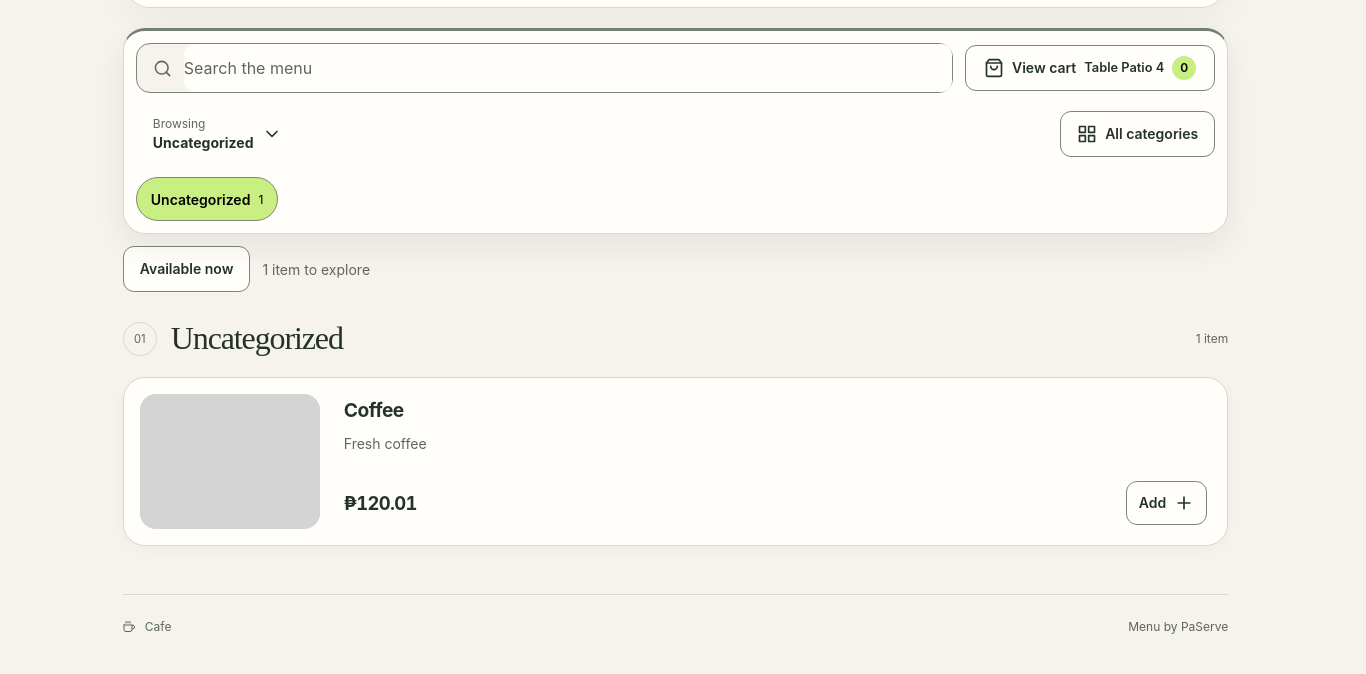
Scenario: keeps the current table and shop visible while choosing product options
The image size is (1366, 674).
(page scrolled)
Click the button "Add" at (1166, 503), box [1126, 481, 1207, 525]
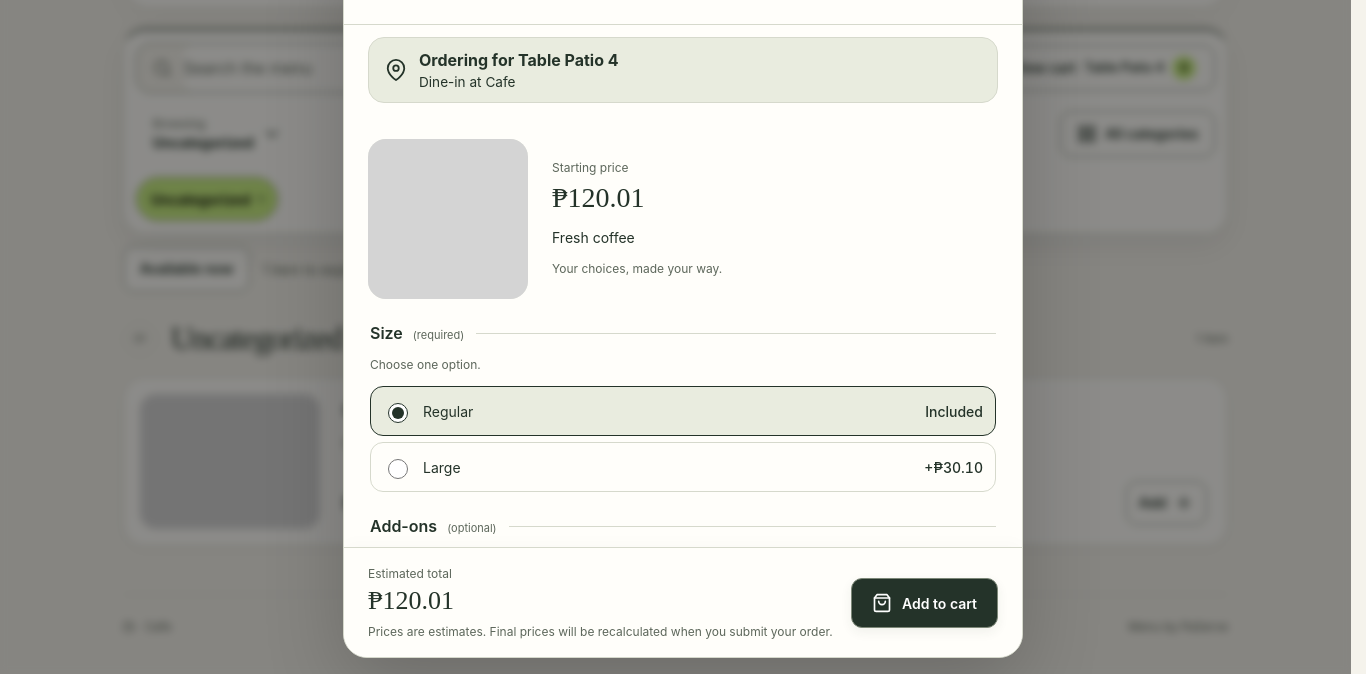
expect the message named "Current table" shows "Ordering for Table Patio 4": met, box [368, 37, 998, 103]
expect the message named "Current table" shows "Dine-in at Cafe": met, box [368, 37, 998, 103]
